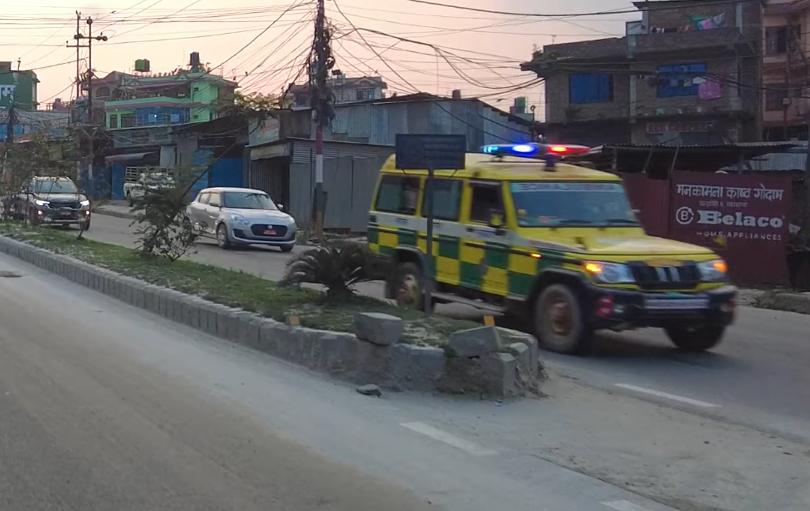ambulance: (363, 134, 735, 362)
car: (179, 185, 301, 253), (2, 172, 95, 236)
